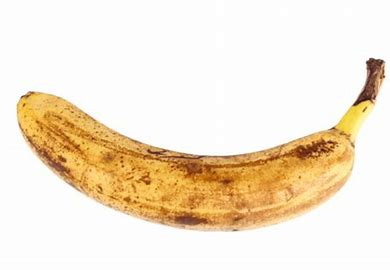banana: (15, 55, 386, 234)
